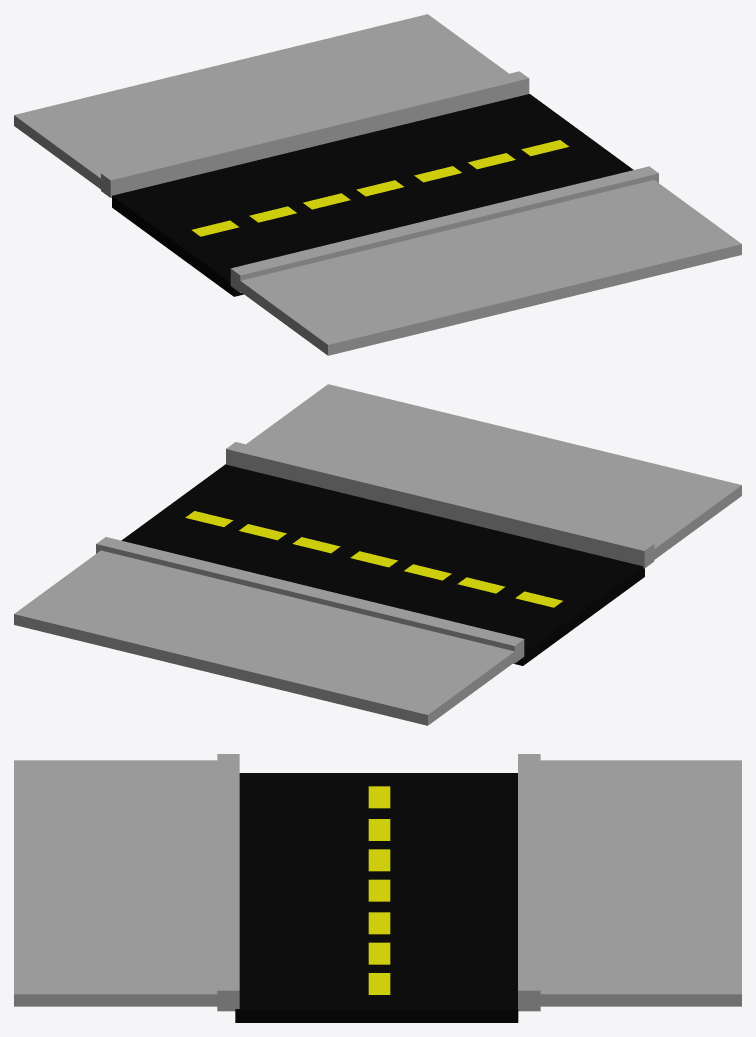
3 views of the same model, one above another, from view 1: azimuth 30°, elevation 25°; view 2: azimuth 150°, elevation 25°; view 3: azimuth 270°, elevation 25° (orthographic). The views are drawn at different scales.
Parts seen in each view (by area): view 1: polySurface3, polySurface12, polySurface11, polySurface4, polySurface13; view 2: polySurface3, polySurface11, polySurface12, polySurface13, polySurface4; view 3: polySurface3, polySurface12, polySurface11, polySurface4, polySurface13, polySurface2, polySurface5, polySurface6, polySurface9, polySurface10, polySurface7, polySurface8.
Part boxes in pixels (x1,y1,x2,y2): polySurface3: (112,94,633,296); polySurface12: (237,180,741,355); polySurface11: (14,14,508,192); polySurface4: (101,71,529,197); polySurface13: (230,166,658,292); polySurface3: (121,464,644,665); polySurface11: (14,550,518,725); polySurface12: (246,384,741,562); polySurface13: (226,442,654,568); polySurface4: (96,537,524,663); polySurface3: (235,773,518,1022); polySurface12: (14,760,217,1006); polySurface11: (540,760,741,1006); polySurface4: (518,754,540,1011); polySurface13: (217,754,239,1011); polySurface2: (368,786,390,808); polySurface5: (368,879,390,901); polySurface6: (368,849,390,871); polySurface9: (368,942,390,964); polySurface10: (368,912,390,934); polySurface7: (368,819,390,840); polySurface8: (368,973,390,994).
Bounding box in the file's own units: 10.76 × 0.6731 × 13.97.
